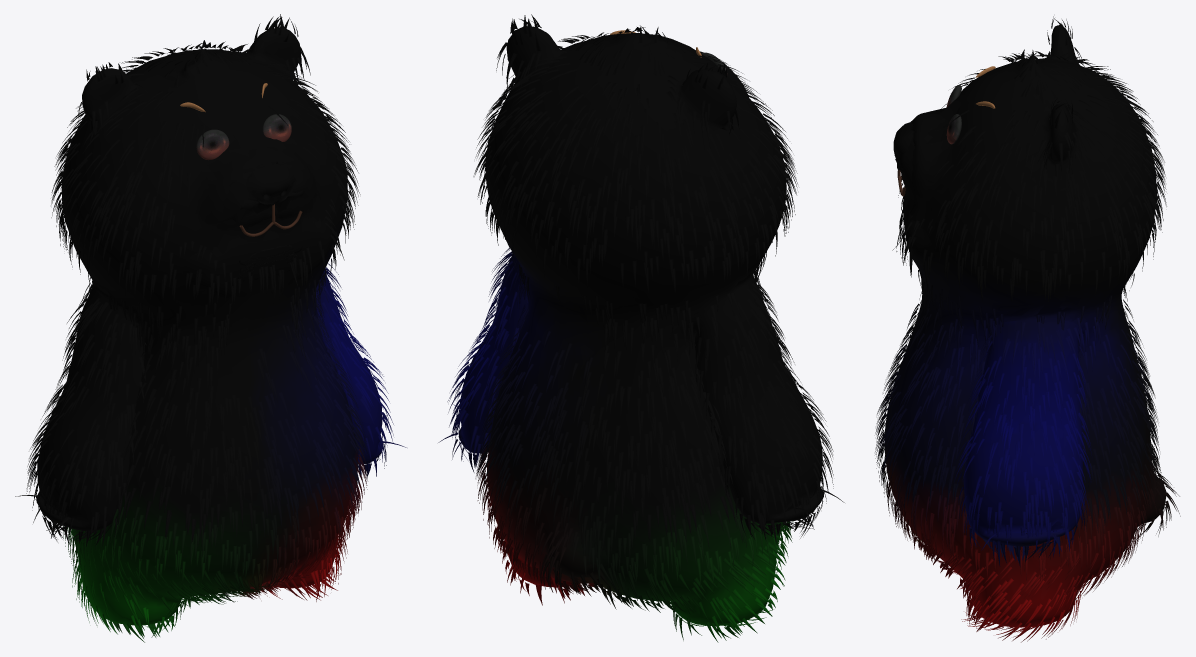
Rendered from bear_shell_v15.glb.
The picture shows the model from 3 angles, left to right: view 1: azimuth 30°, elevation 25°; view 2: azimuth 150°, elevation 25°; view 3: azimuth 270°, elevation 25°; orthographic projection. The views are drawn at different scales.
Visible parts, largest first — view 1: BoundedShellGroom, LayeredCurvedGroom, Body, BrownBear_Normal; view 2: BoundedShellGroom, LayeredCurvedGroom, Body; view 3: BoundedShellGroom, LayeredCurvedGroom, Body, BrownBear_Normal.
Part boxes in pixels (x1,y1,x2,y2): BoundedShellGroom: [36, 27, 382, 625]; LayeredCurvedGroom: [15, 14, 406, 642]; Body: [37, 31, 376, 621]; BrownBear_Normal: [196, 114, 291, 160]; BoundedShellGroom: [458, 26, 823, 625]; LayeredCurvedGroom: [438, 14, 844, 642]; Body: [460, 27, 820, 616]; BoundedShellGroom: [884, 25, 1165, 627]; LayeredCurvedGroom: [875, 16, 1180, 642]; Body: [885, 28, 1159, 601]; BrownBear_Normal: [946, 85, 961, 144].
Bounding box in the file's own units: 1.73 × 2.57 × 1.32.
Materials: 6 (4 with a texture image).
